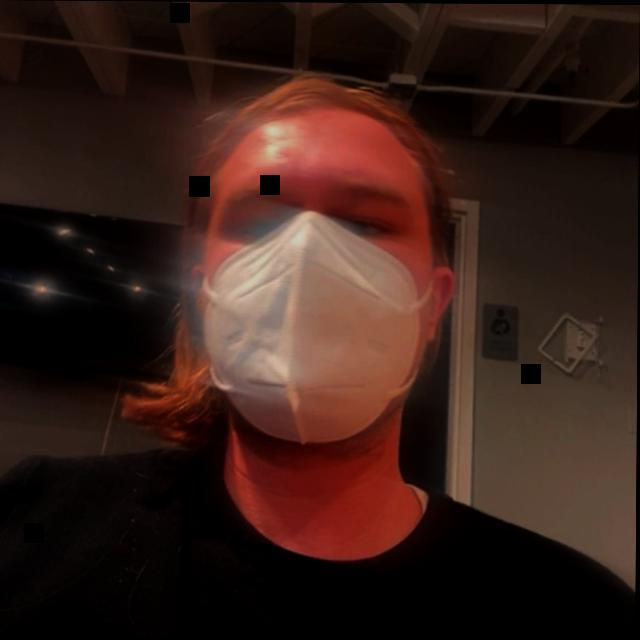Mask: (104, 54, 496, 578)
